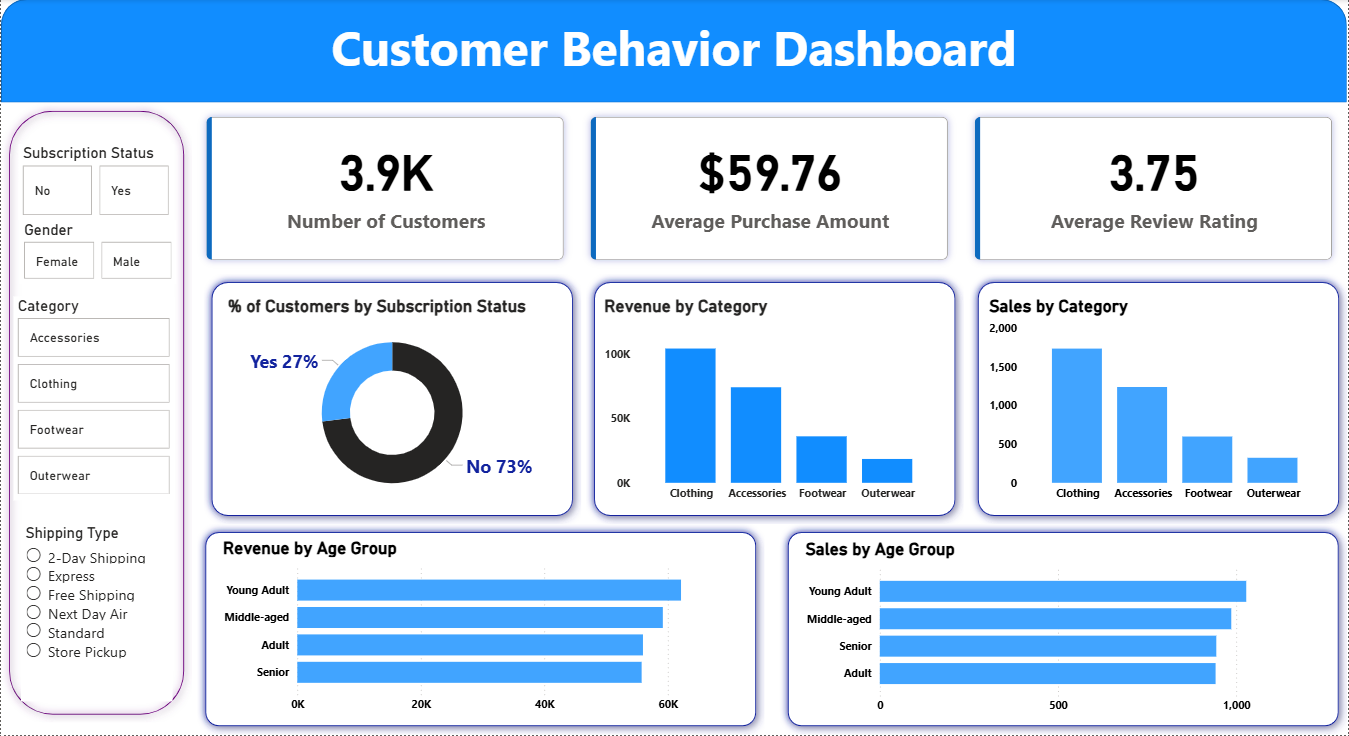

The page's visual inventory and layout, read from the dashboard file:
{"tool":"powerbi","page":{"name":"Page 1","canvas":[1500,820],"ordinal":0},"visuals":[{"type":"cardVisual","fields":{"Data":["public customer.Number of Customers","public customer.Average Purchase Amount","public customer.Average Review Rating"]},"box":[212.9,115.3,1286.5,191.6],"z":2000},{"type":"shape","box":[218.3,585.6,631.7,234.2],"z":2500,"group":"g1"},{"type":"shape","box":[0,0,1499.4,115.3],"z":3000},{"type":"textbox","box":[0,12.4,1499.4,102.9],"z":4000},{"type":"shape","box":[225.4,307,420.5,278.6],"z":5000},{"type":"donutChart","title":"% of Customers by Subscription Status","fields":{"Category":["public customer.subscription_status"],"Y":["CountNonNull(public customer.customer_id)"]},"box":[248.4,331.8,376.2,237.8],"z":6000},{"type":"shape","box":[1078.9,307,420.5,278.6],"z":7000},{"type":"shape","box":[652.1,307,420.5,278.6],"z":8000},{"type":"clusteredColumnChart","title":"Revenue by Category","fields":{"Y":["Sum(public customer.purchase_amount)"],"Category":["public customer.category"]},"box":[667.2,331.8,385.1,237.8],"z":9000},{"type":"clusteredColumnChart","title":"Sales by Category","fields":{"Y":["CountNonNull(public customer.customer_id)"],"Category":["public customer.category"]},"box":[1096.6,331.8,385.1,237.8],"z":10000},{"type":"shape","box":[0,115.6,213.1,690.8],"z":11000},{"type":"advancedSlicerVisual","fields":{"Values":["public customer.subscription_status"]},"box":[19.5,161.5,173.9,85.2],"z":12000},{"type":"advancedSlicerVisual","fields":{"Values":["public customer.gender"]},"box":[20.9,246.5,174.1,71],"z":13000},{"type":"advancedSlicerVisual","fields":{"Values":["public customer.category"]},"box":[13.9,331.5,179.7,227],"z":14000},{"type":"listSlicer","fields":{"Values":["public customer.shipping_type"]},"box":[22.3,584.9,168.5,197.8],"z":15000},{"type":"shape","box":[867.7,585.6,631.7,234.2],"z":16000},{"type":"clusteredBarChart","title":"Sales by Age Group","fields":{"Y":["CountNonNull(public customer.customer_id)"],"Category":["public customer.age_group"]},"box":[890.8,601.5,585.6,204.1],"z":17000},{"type":"clusteredBarChart","title":"Revenue by Age Group","fields":{"Y":["Sum(public customer.purchase_amount)"],"Category":["public customer.age_group"]},"box":[241.4,601.6,585.6,204.1],"z":17500,"group":"g1"},{"type":"group","id":"g1","title":"Group 1","box":[218.3,585.6,631.7,234.2],"z":17501}]}

Visuals, with their boxes in screenshot pixels (x1, y1, x2, y2), scaled from the page's 1500x820 canvas onto the 1349x736 screenshot:
cardVisual - public customer.Number of Customers x public customer.Average Purchase Amount: bbox=[191, 103, 1348, 275]
shape: bbox=[196, 526, 764, 735]
shape: bbox=[0, 0, 1348, 103]
textbox: bbox=[0, 11, 1348, 103]
shape: bbox=[203, 276, 581, 526]
"% of Customers by Subscription Status" donutChart: bbox=[223, 298, 562, 511]
shape: bbox=[970, 276, 1348, 526]
shape: bbox=[586, 276, 965, 526]
"Revenue by Category" clusteredColumnChart: bbox=[600, 298, 946, 511]
"Sales by Category" clusteredColumnChart: bbox=[986, 298, 1333, 511]
shape: bbox=[0, 104, 192, 724]
advancedSlicerVisual - public customer.subscription_status: bbox=[18, 145, 174, 221]
advancedSlicerVisual - public customer.gender: bbox=[19, 221, 175, 285]
advancedSlicerVisual - public customer.category: bbox=[13, 298, 174, 501]
listSlicer - public customer.shipping_type: bbox=[20, 525, 172, 703]
shape: bbox=[780, 526, 1348, 735]
"Sales by Age Group" clusteredBarChart: bbox=[801, 540, 1328, 723]
"Revenue by Age Group" clusteredBarChart: bbox=[217, 540, 744, 723]
"Group 1" group: bbox=[196, 526, 764, 735]
